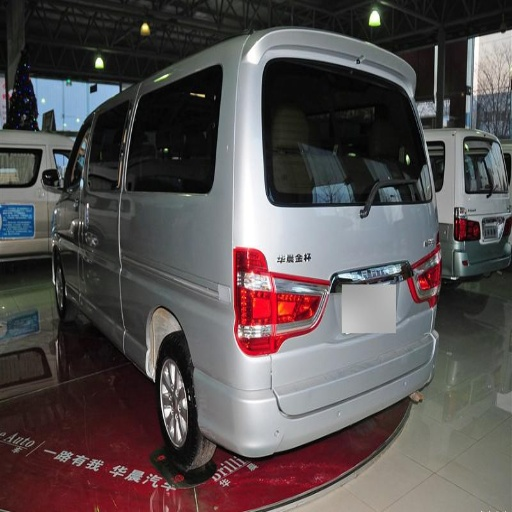back_bumper: (199, 308, 432, 510)
back_left_light: (235, 247, 271, 355)
trunk: (119, 200, 427, 415)
